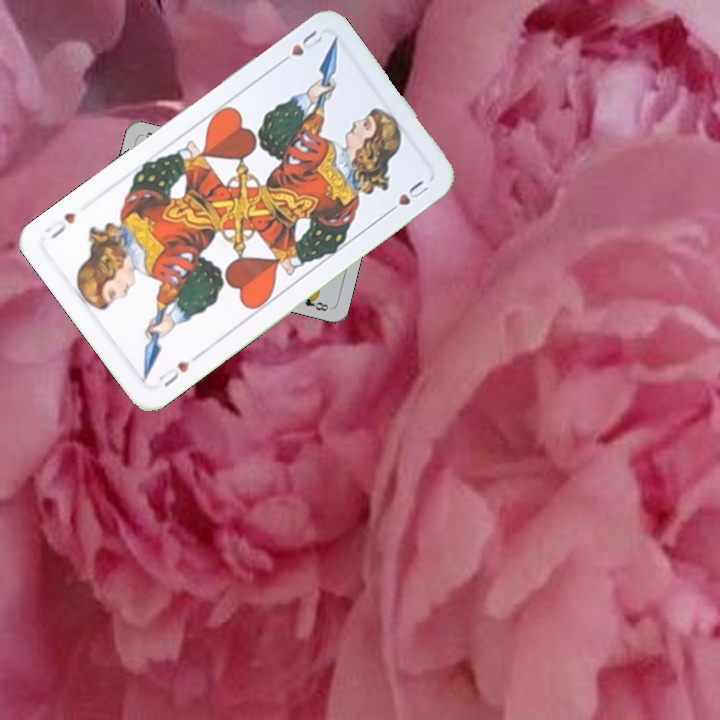HU: (274, 26, 327, 68), (154, 350, 202, 390)
